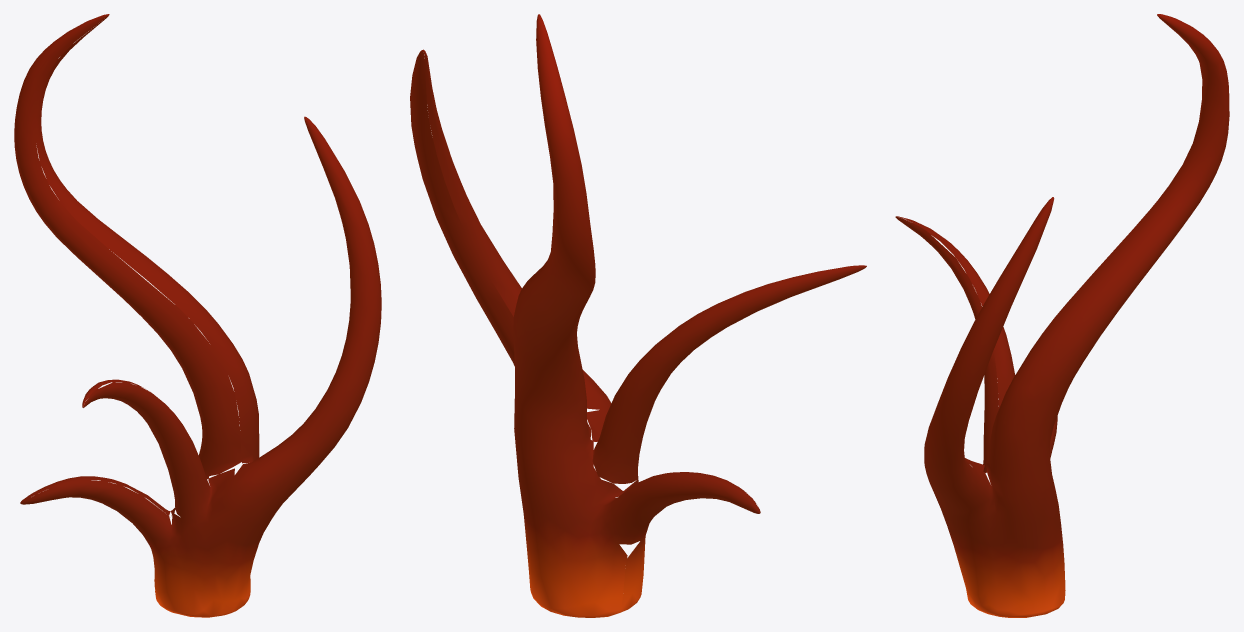
The model's file is tb_tentacle_b.glb.
3 renders of one model, left to right at view 1: azimuth 30°, elevation 25°; view 2: azimuth 150°, elevation 25°; view 3: azimuth 270°, elevation 25°, orthographic. The views are drawn at different scales.
Parts seen in each view (by area): view 1: geometry_0; view 2: geometry_0; view 3: geometry_0.
Part boxes in pixels (box(x1,y1,x2,y2)): geometry_0: box(14, 14, 381, 617); geometry_0: box(410, 14, 866, 617); geometry_0: box(895, 14, 1229, 617).
Bounding box in the file's own units: 24.48 × 38.19 × 20.17.
